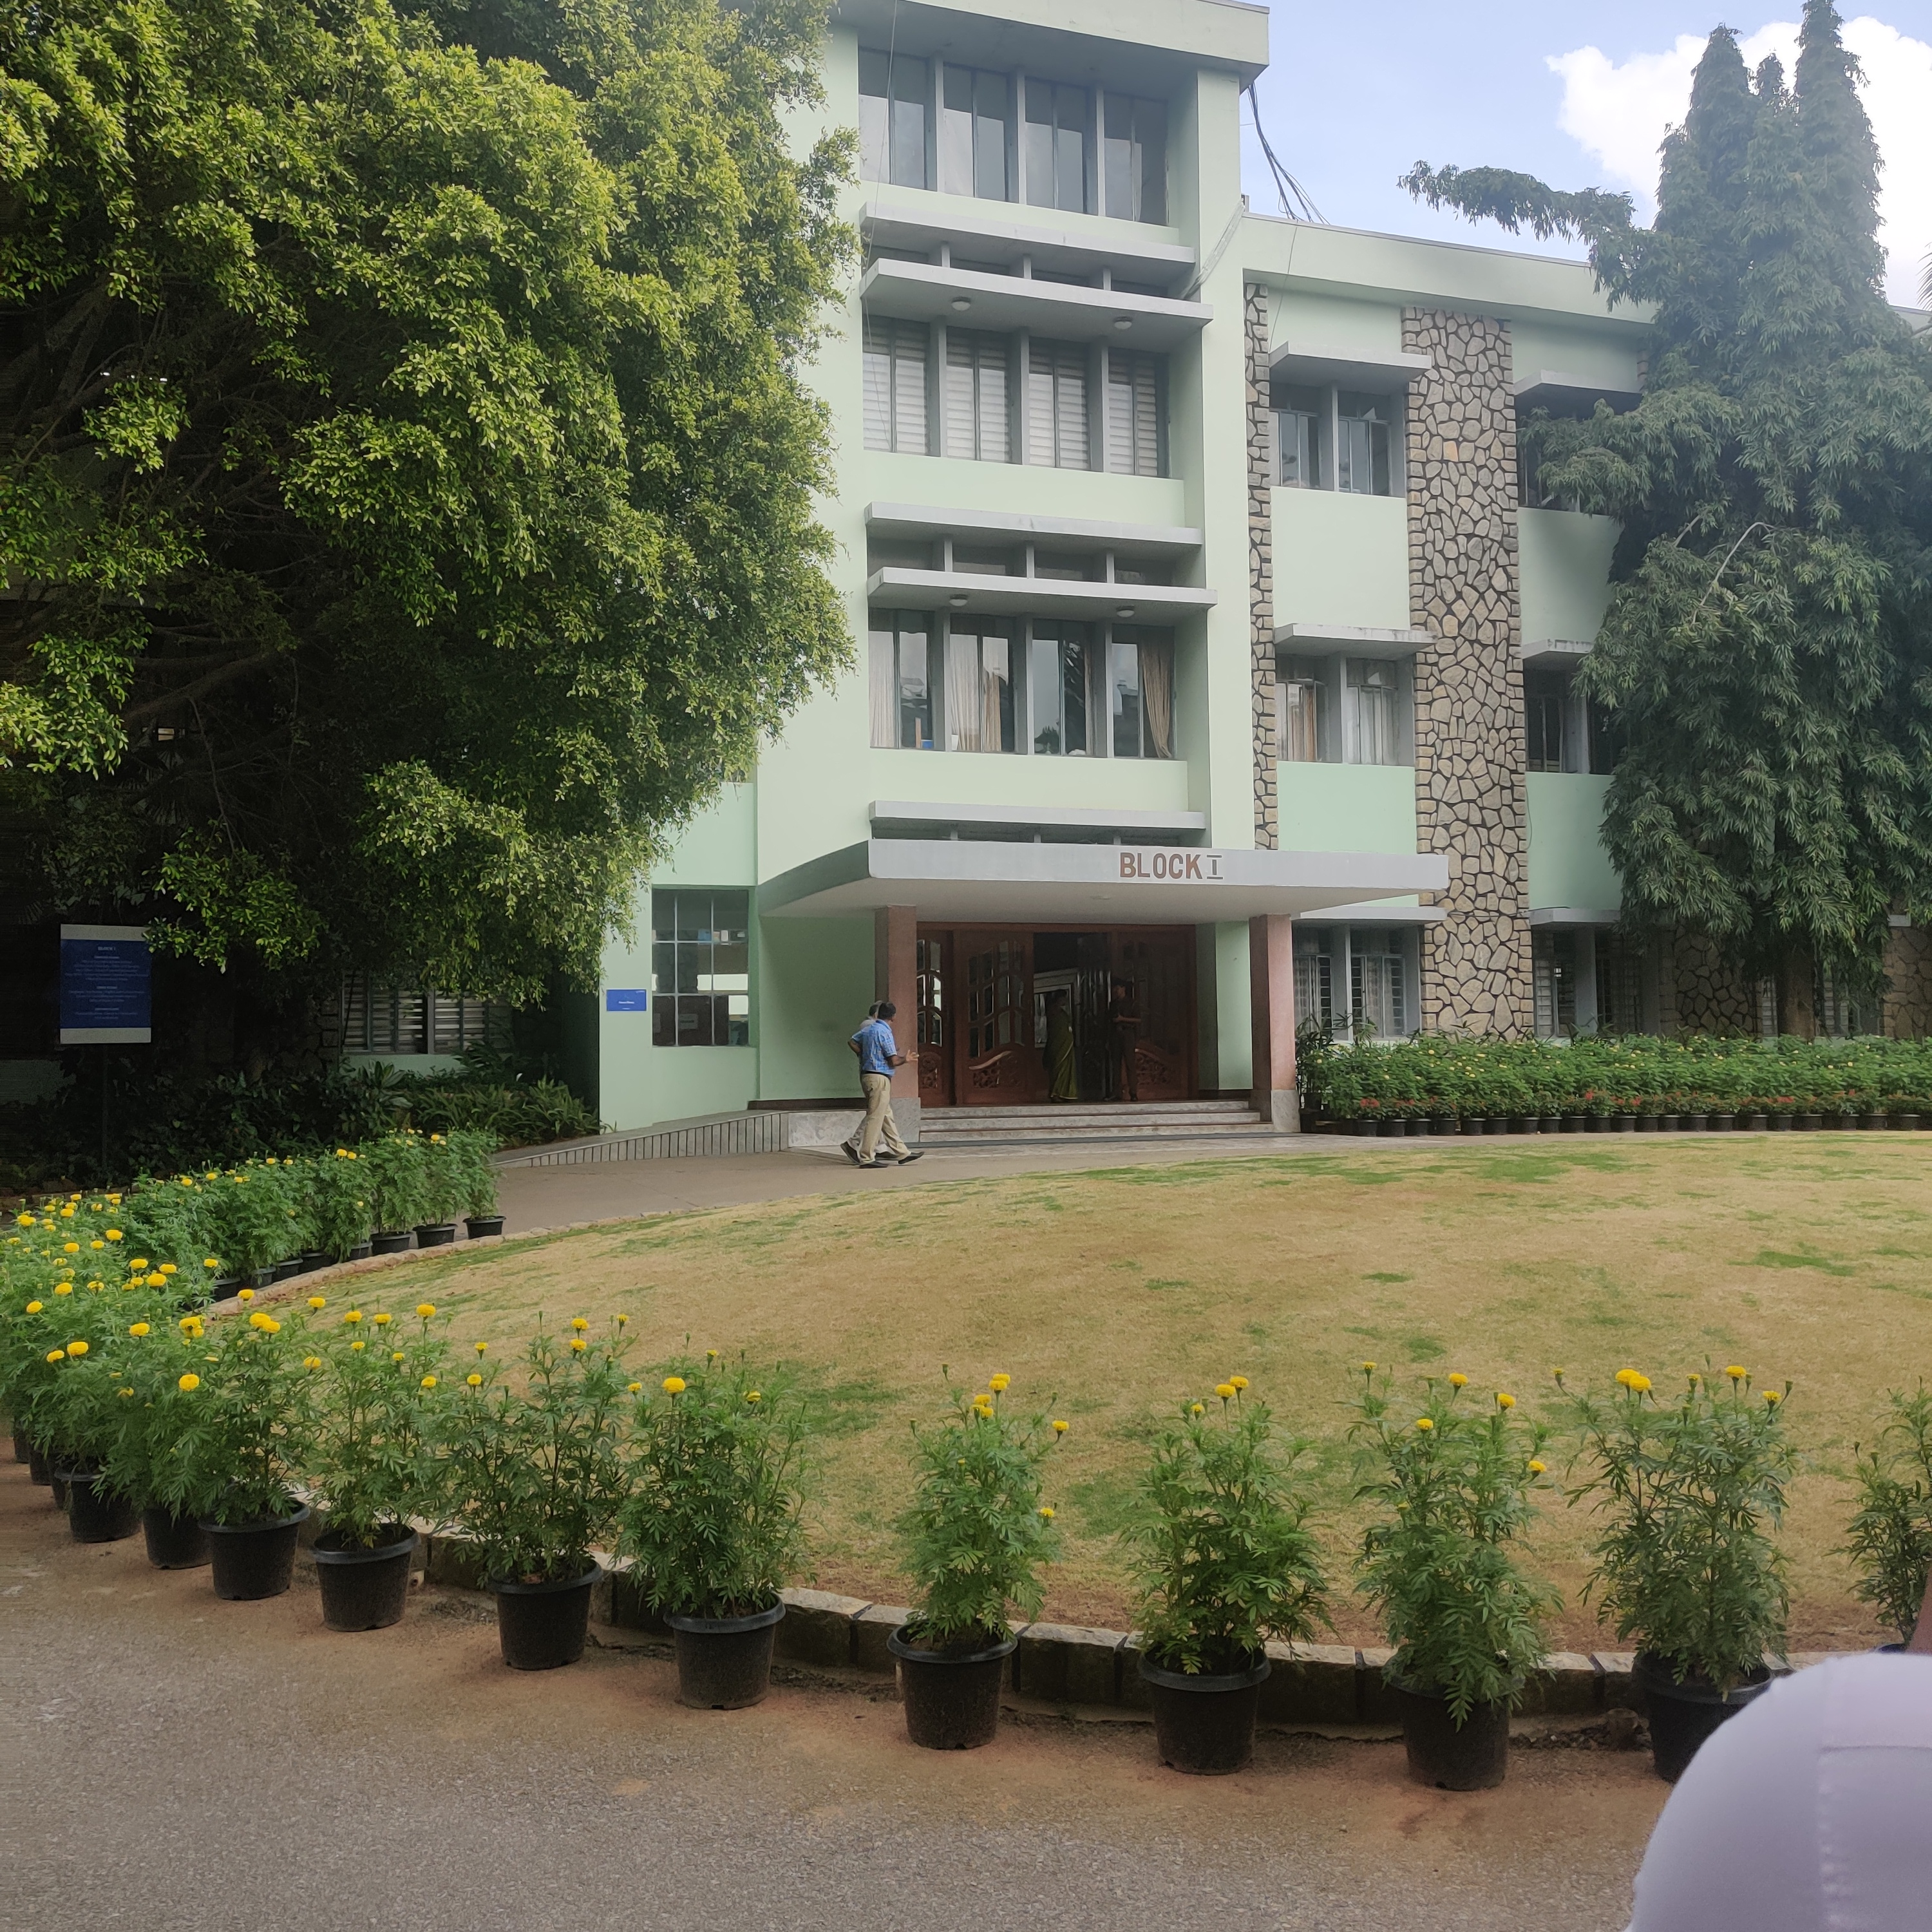Block 1: (816, 12, 1652, 1157)
